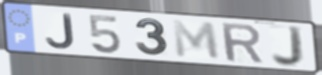3: (134, 17, 170, 58)
5: (88, 14, 123, 55)
J: (270, 24, 305, 69), (44, 13, 77, 51)
M: (170, 19, 223, 62)
R: (218, 22, 265, 65)
